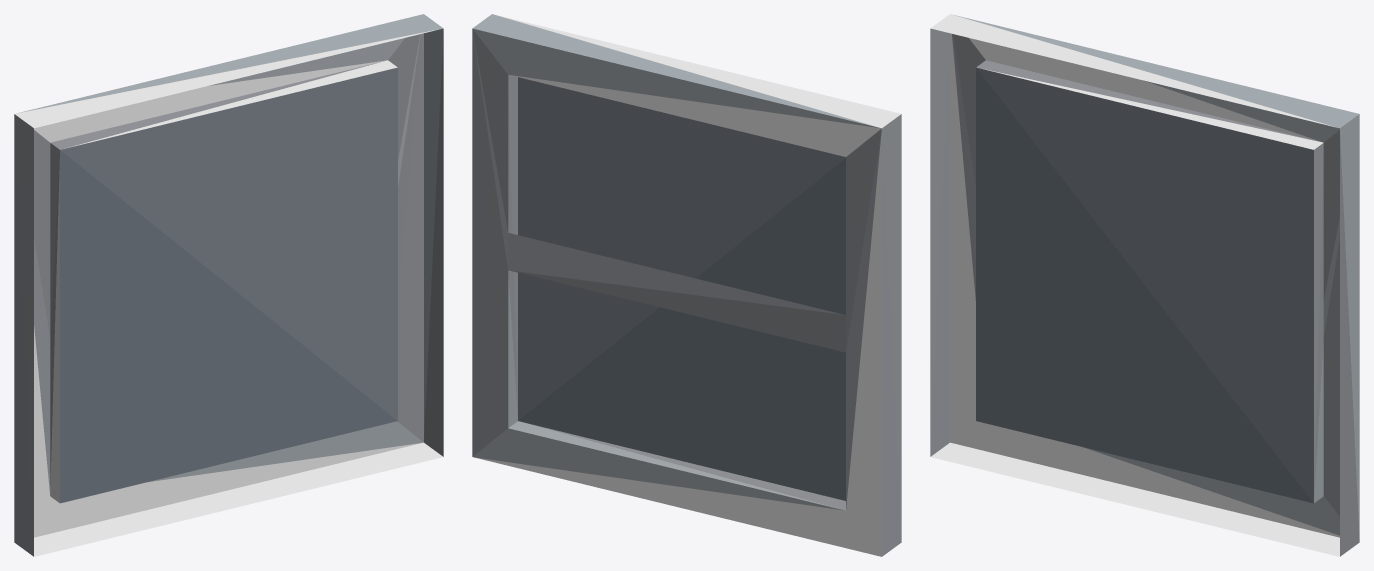
Rendered from window-wide-type-a.obj.
3 views of the same model, side by side, from view 1: azimuth 30°, elevation 25°; view 2: azimuth 150°, elevation 25°; view 3: azimuth 330°, elevation 25° (orthographic).
Size of the model in its own units: 0.5978 by 0.5978 by 0.05.
